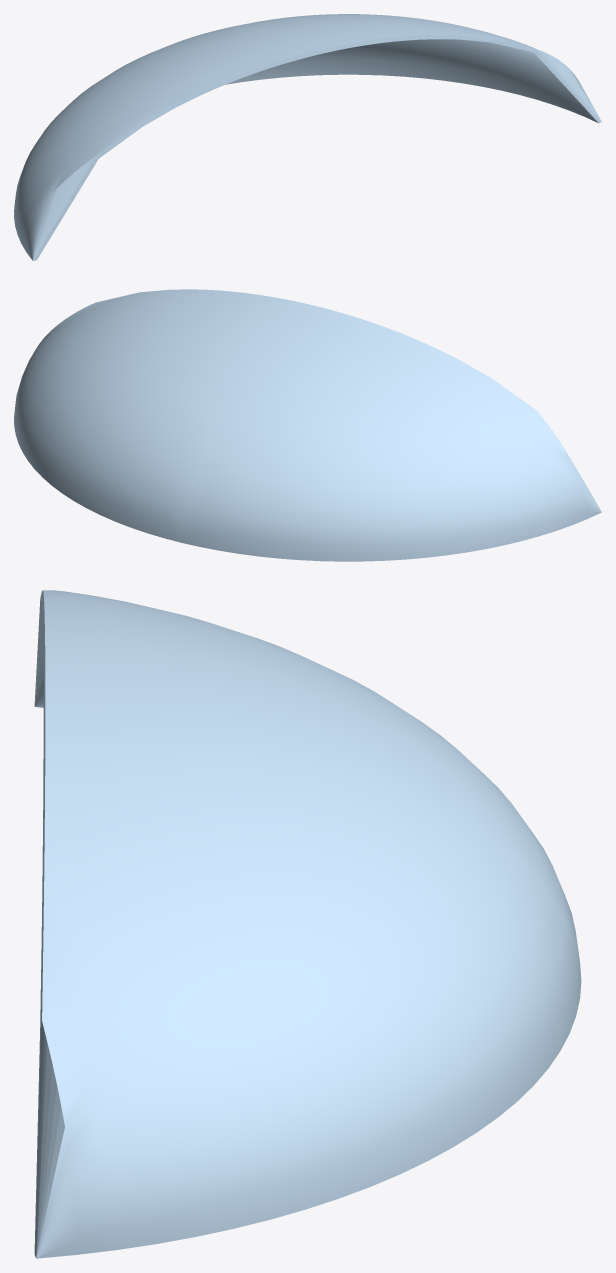
File: EM_Glass.fbx
3 renders of one model, top to bottom at view 1: azimuth 30°, elevation 25°; view 2: azimuth 150°, elevation 25°; view 3: azimuth 270°, elevation 25°, orthographic. The views are drawn at different scales.
Parts seen in each view (by area): view 1: EM_Glass; view 2: EM_Glass; view 3: EM_Glass.
Part boxes in pixels (box(x1,y1,x2,y2)): EM_Glass: box(14, 14, 601, 260); EM_Glass: box(14, 289, 601, 561); EM_Glass: box(34, 590, 581, 1258).
Size of the model in its own units: 7.23 by 1.69 by 3.01.
